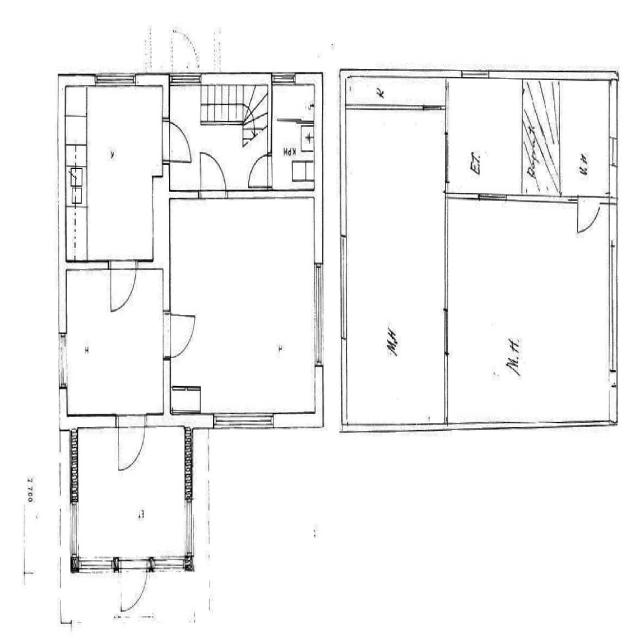door: (114, 414, 148, 476), (168, 27, 202, 88), (106, 256, 138, 317), (164, 309, 200, 362), (118, 558, 150, 615), (197, 147, 228, 199), (164, 119, 193, 165), (576, 196, 602, 237), (246, 152, 273, 190)
window: (210, 406, 276, 436), (309, 255, 327, 364), (95, 68, 138, 92), (606, 78, 621, 146), (182, 495, 196, 561), (150, 554, 187, 578), (77, 555, 115, 578), (56, 334, 70, 391), (68, 497, 80, 560), (445, 186, 481, 205), (476, 189, 509, 208), (460, 64, 491, 83)
zone: (447, 194, 609, 425), (342, 77, 444, 437), (170, 192, 322, 418), (64, 82, 166, 264), (62, 266, 168, 420), (444, 77, 522, 195), (558, 77, 616, 198), (270, 83, 316, 196)
